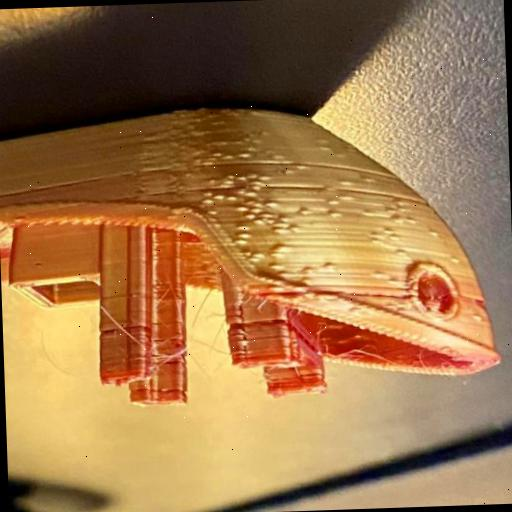blobs: (266, 244, 287, 258), (248, 248, 264, 266), (276, 268, 294, 280), (268, 282, 284, 295), (394, 200, 408, 214), (264, 196, 280, 208), (299, 204, 312, 218), (276, 214, 294, 224), (386, 276, 402, 287), (272, 224, 286, 236), (386, 232, 402, 242), (326, 208, 342, 218), (329, 196, 342, 208), (215, 188, 228, 200), (207, 206, 220, 218), (246, 168, 258, 181), (322, 260, 336, 271), (242, 210, 257, 220), (234, 204, 249, 214), (257, 173, 272, 183), (302, 264, 314, 276), (203, 196, 216, 207), (394, 248, 408, 258), (392, 196, 406, 206), (232, 238, 249, 246), (240, 148, 252, 159), (270, 262, 283, 272), (222, 172, 238, 180), (236, 231, 250, 240), (288, 222, 300, 232), (381, 226, 393, 236), (394, 214, 406, 224), (202, 190, 214, 200), (208, 150, 222, 158), (238, 222, 249, 232), (254, 216, 264, 227), (202, 158, 213, 168), (226, 194, 238, 202), (406, 216, 418, 224), (223, 178, 235, 186), (301, 276, 311, 284), (370, 230, 378, 240), (370, 238, 380, 246), (363, 210, 373, 218), (430, 229, 440, 237), (246, 190, 258, 196), (236, 174, 248, 180), (251, 184, 262, 190), (223, 154, 234, 159)
stringing: (146, 346, 194, 364), (335, 344, 372, 359)
